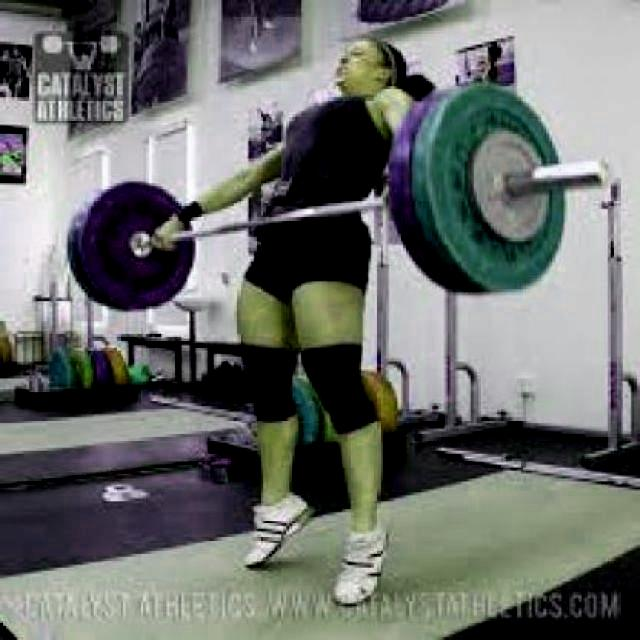barbell: (427, 83, 620, 302)
